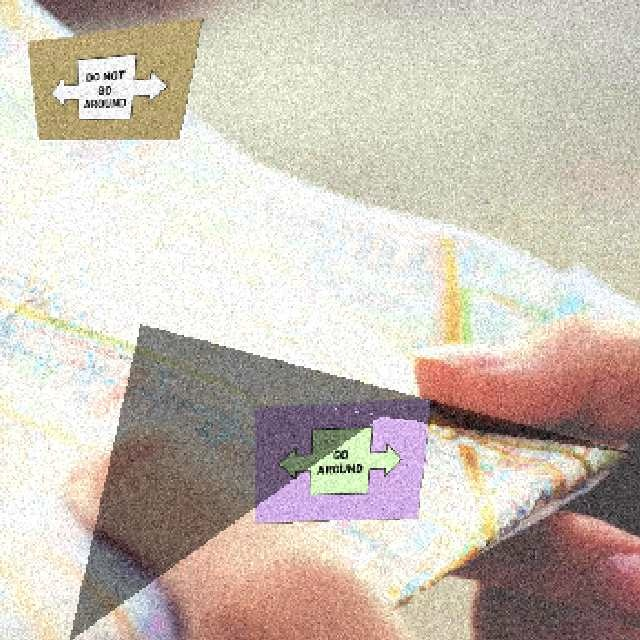DO_NOT_GO_AROUND: (40, 48, 172, 120)
GO_AROUND: (277, 424, 405, 495)
